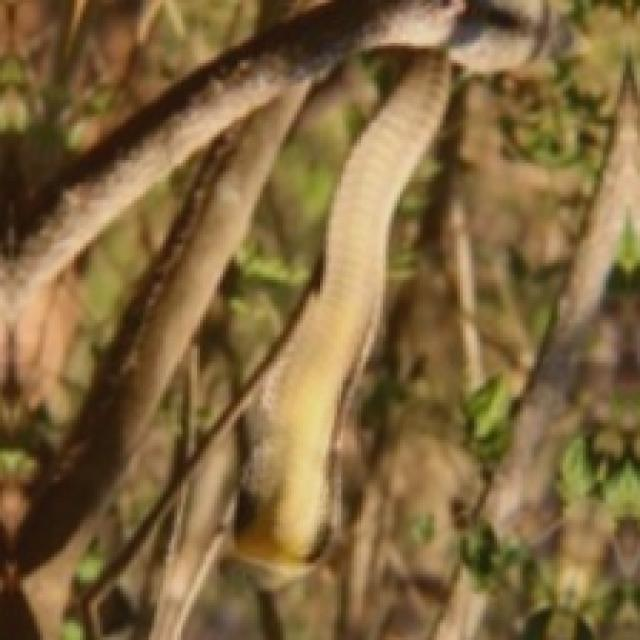king cobra: (237, 49, 449, 580), (237, 51, 449, 580)
